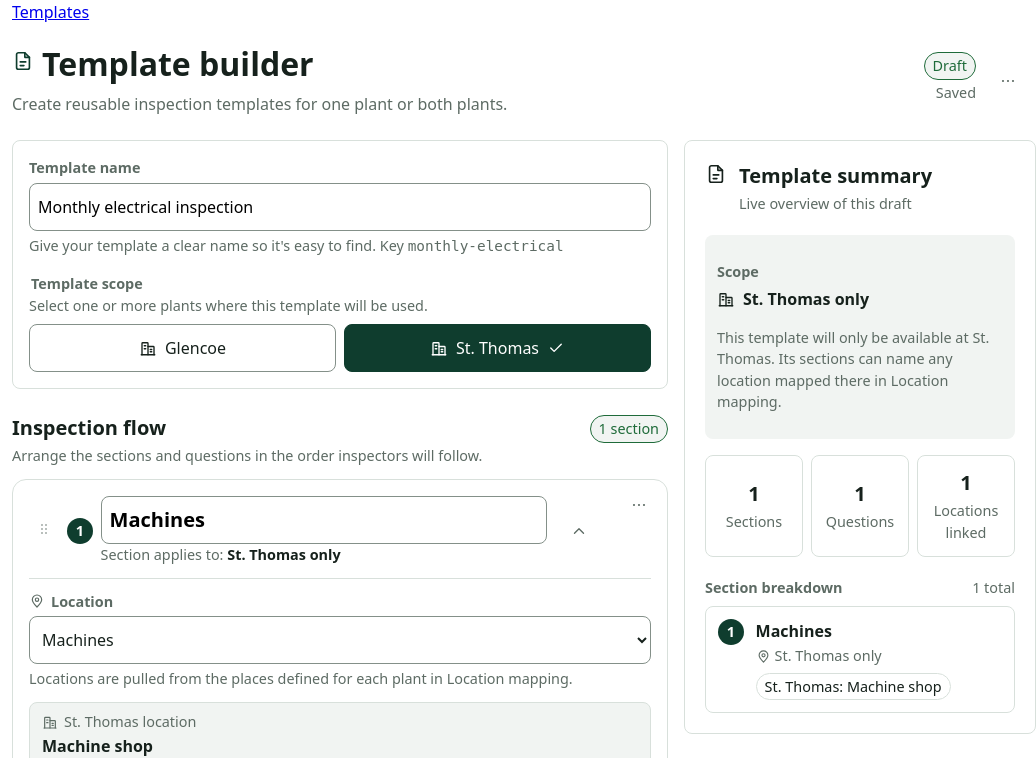
Test: las ubicaciones que una sección puede nombrar › conserva la ubicación ya elegida aunque el alcance la deje afuera, y lo avisa
Expected: the field labelled "Template name" is shown, [29,183,651,231]
Expected: the button "St. Thomas" is shown, [344,324,651,372]
Click the button "Glencoe" at (182, 348), box [29,324,336,372]
(page scrolled)
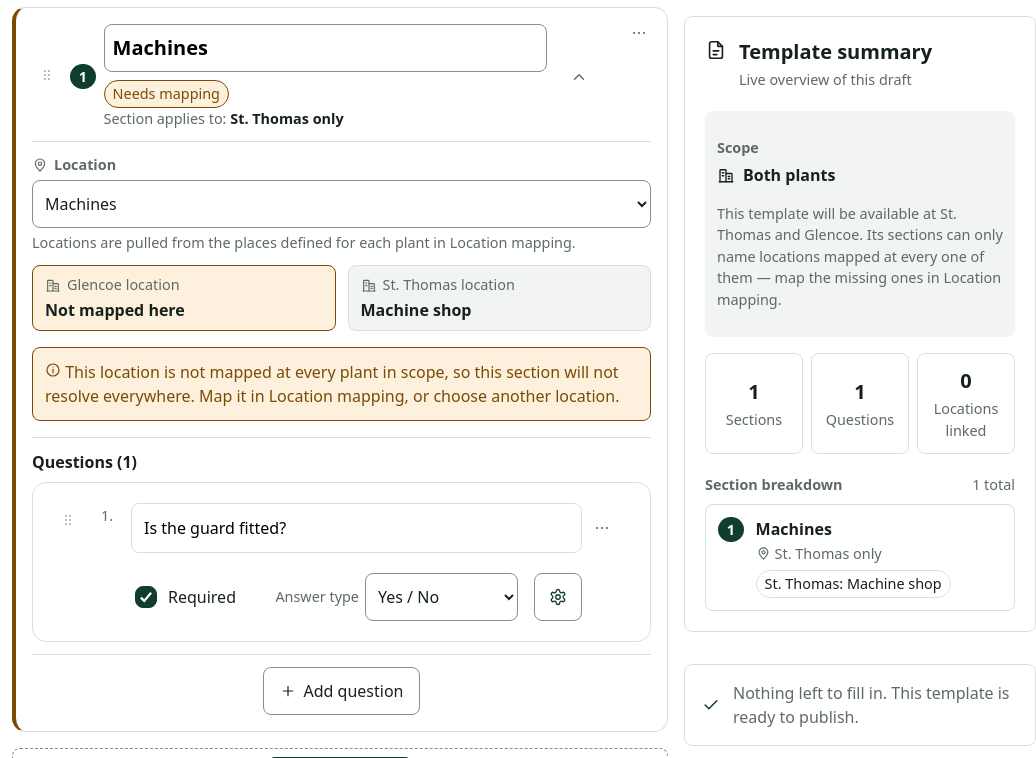
Expected: the dropdown labelled "Location" shows "Machines", [32,180,651,228]
Expected: the text "not mapped at every plant in scope" is shown, [45,361,619,407]
